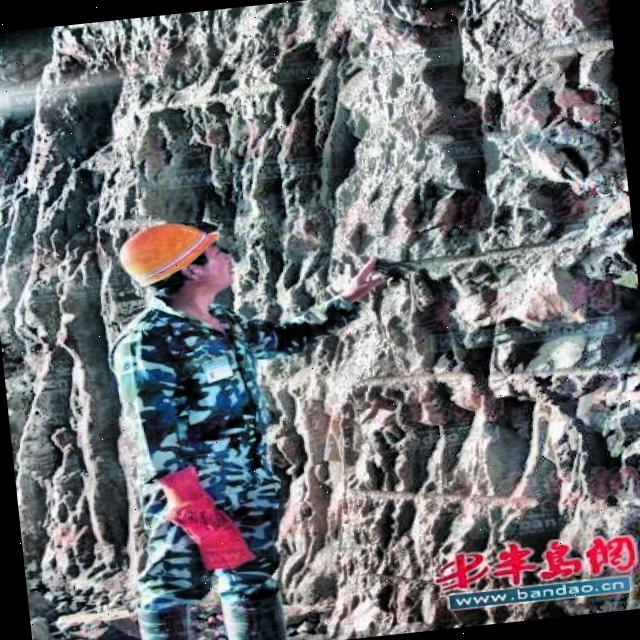helmet: (105, 206, 244, 324)
